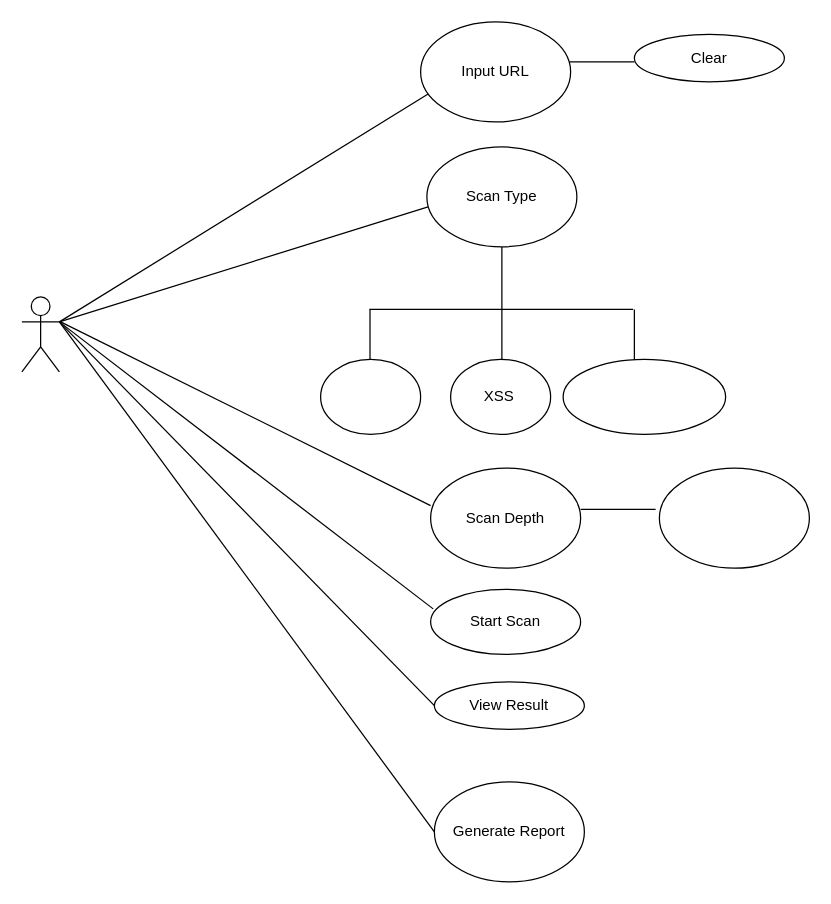
The diagram is 831 pixels wide and 904 high, and some of its shapes have lost their labels. The centre of each missing label's shape, as x and y in pixels:
Actor: the point at 40,334
Comprehensive: the point at 644,396
SQLi: the point at 370,396
Timeout: the point at 733,517
